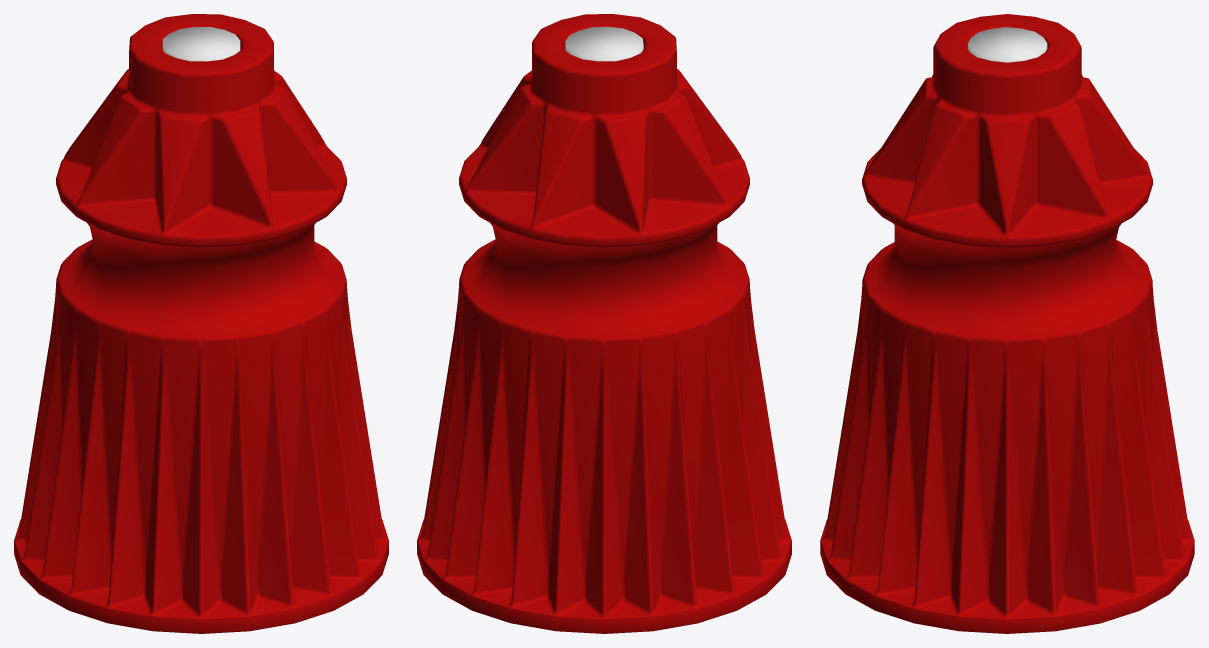
Rendered from Model - Plastic - Star - 1.0625in.fbx.
3 views of the same model, side by side, from view 1: azimuth 30°, elevation 25°; view 2: azimuth 150°, elevation 25°; view 3: azimuth 270°, elevation 25° (orthographic).
Parts seen in each view (by area): view 1: Post - Plastic - Star - 1 1/16"; view 2: Post - Plastic - Star - 1 1/16"; view 3: Post - Plastic - Star - 1 1/16".
Boxes of the visible parts, x1,y1,x2,y2 form: Post - Plastic - Star - 1 1/16": (14, 14, 388, 633); Post - Plastic - Star - 1 1/16": (417, 14, 791, 633); Post - Plastic - Star - 1 1/16": (820, 14, 1194, 633).
Size of the model in its own units: 1.79 by 2.7 by 1.79.
